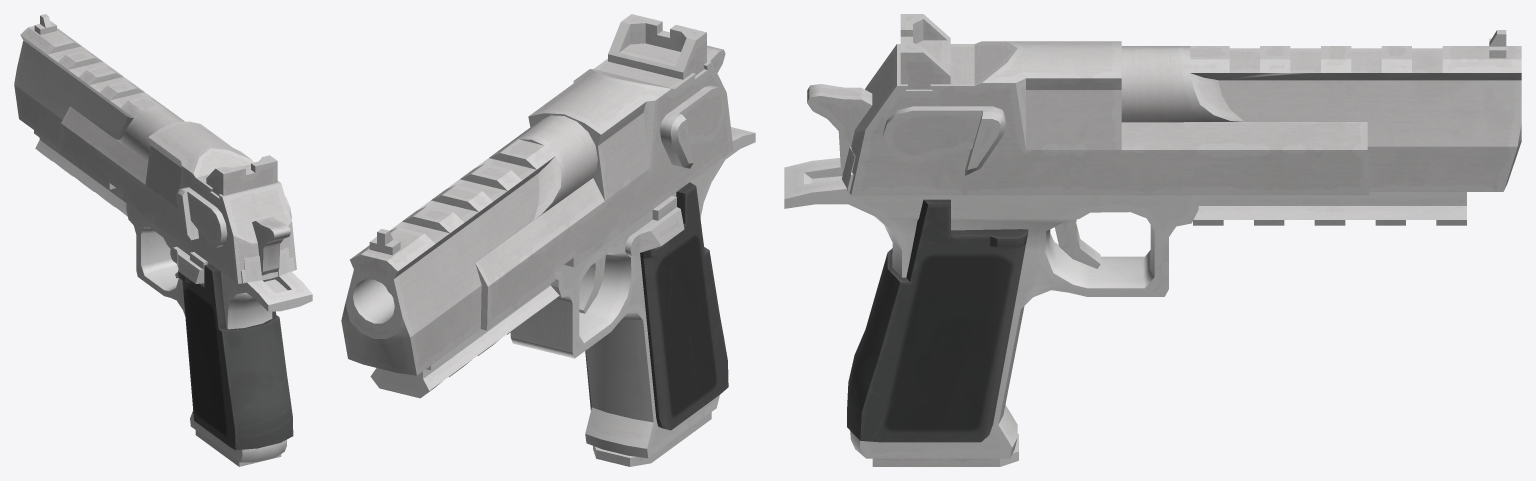
File: IG_Gun_Desert.fbx
3 renders of one model, left to right at view 1: azimuth 30°, elevation 25°; view 2: azimuth 150°, elevation 25°; view 3: azimuth 270°, elevation 25°, orthographic. The views are drawn at different scales.
Visible parts, largest first — view 1: Pfb_WPN_DesertEagle; view 2: Pfb_WPN_DesertEagle; view 3: Pfb_WPN_DesertEagle.
Boxes of the visible parts, box(x1,y1,x2,y2) form: Pfb_WPN_DesertEagle: box(14, 14, 312, 466); Pfb_WPN_DesertEagle: box(341, 14, 755, 466); Pfb_WPN_DesertEagle: box(784, 14, 1521, 466).
Size of the model in its own units: 0.0932 by 0.3185 by 0.5068.
